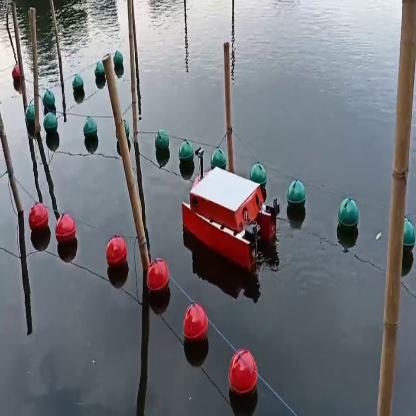green_buoy: (334, 197, 359, 239), (288, 178, 304, 218), (177, 138, 194, 166), (250, 160, 266, 188), (44, 109, 58, 141), (76, 119, 90, 146), (208, 143, 224, 166), (156, 130, 170, 155), (406, 216, 413, 264), (26, 102, 38, 127), (74, 80, 84, 103), (44, 93, 54, 114), (113, 52, 122, 72), (95, 68, 104, 80)
red_buoy: (182, 298, 213, 352), (228, 350, 256, 404), (143, 260, 173, 309), (26, 198, 50, 236), (55, 215, 79, 249), (104, 238, 127, 272), (12, 62, 21, 88)
